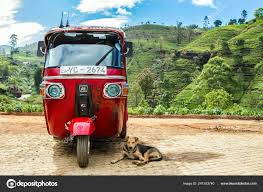tuk tuk: (39, 25, 130, 169)
